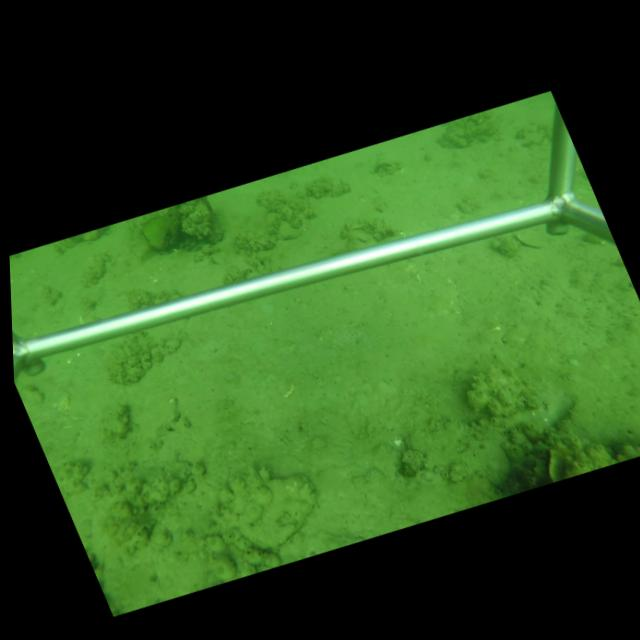Oyster-Indeterminate: (235, 470, 317, 551)
